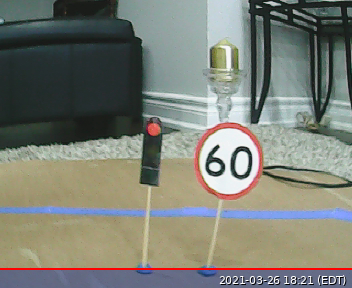Red Traffic Light: (138, 117, 164, 186)
Speed Limit 60: (194, 123, 263, 200)
